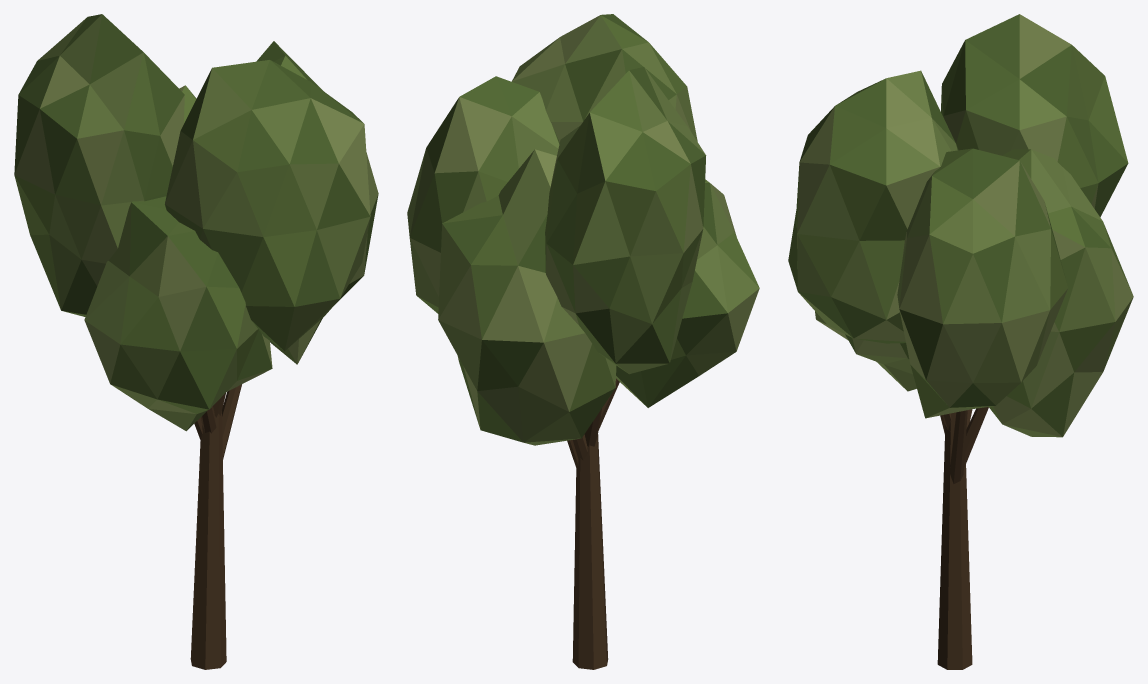
Rendered from Tree02.obj.
3 renders of one model, left to right at view 1: azimuth 30°, elevation 25°; view 2: azimuth 150°, elevation 25°; view 3: azimuth 270°, elevation 25°, orthographic. The views are drawn at different scales.
Visible parts, largest first — view 1: Crown.001, Trunk.001; view 2: Crown.001, Trunk.001; view 3: Crown.001, Trunk.001.
Boxes of the visible parts, bbox=[...] form: Crown.001: bbox=[14, 14, 378, 431]; Trunk.001: bbox=[190, 384, 241, 669]; Crown.001: bbox=[407, 14, 759, 445]; Trunk.001: bbox=[567, 378, 619, 669]; Crown.001: bbox=[788, 14, 1133, 437]; Trunk.001: bbox=[937, 407, 988, 669].
Size of the model in its own units: 4.4 by 8.75 by 4.45.
